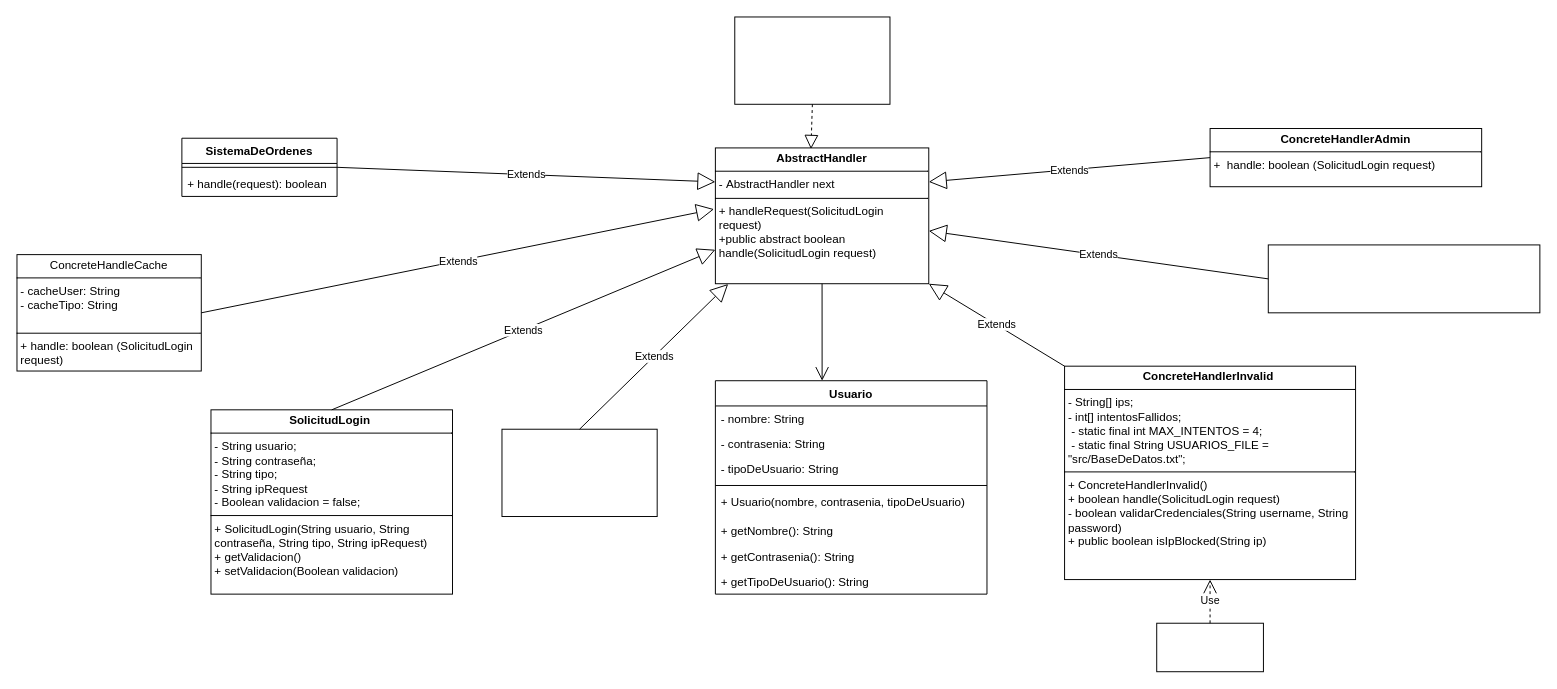
Image size: 1557x689. Some labels were removed from this diagram. The shapes that lost their labels are listed below. From the top down, each one's centre as x and y in pixels, then its label:
At point 812,60: "Cliente + main(args: String[]): void".
At point 1403,278: "ConcreteHadlerUsuario + handle: boolean (solicitudLogin request)".
At point 579,472: "GeneradorIp + field: Type + int random(); + String guardarIp();".
At point 1209,647: "BaseDeDatos.txt".
